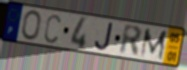4: (69, 15, 88, 51)
C: (43, 13, 62, 45)
J: (93, 22, 115, 52)
M: (138, 28, 168, 62)
O: (21, 9, 42, 42)
R: (118, 23, 143, 59)
